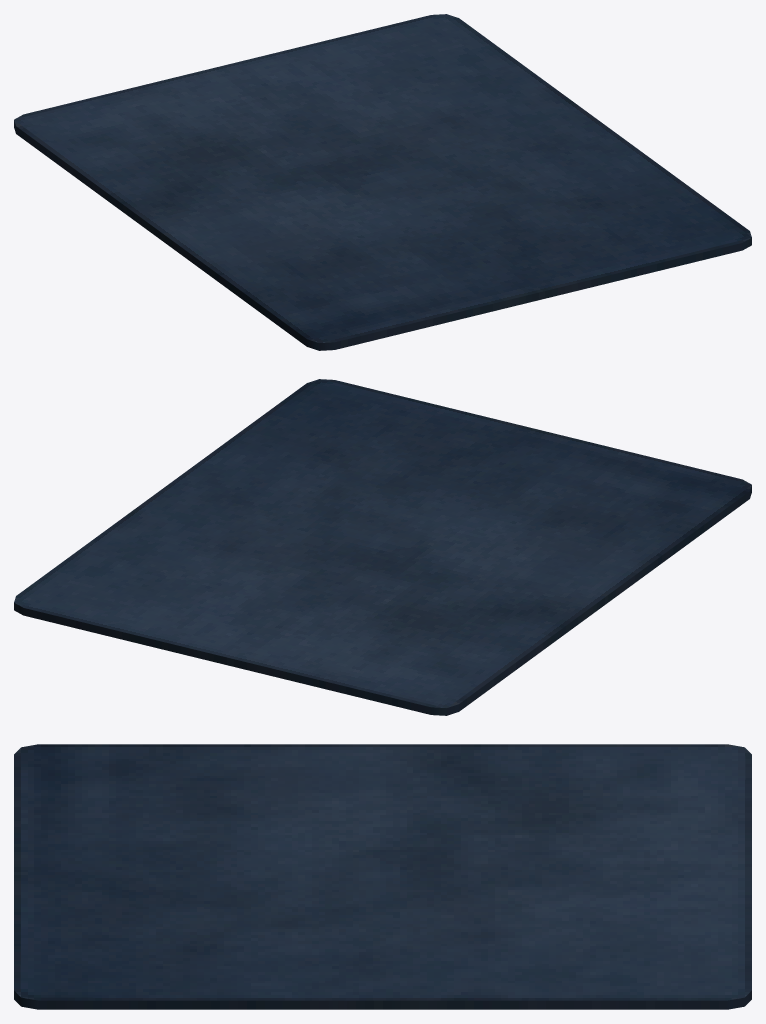
The model's file is MousePadMp1.glb.
3 renders of one model, top to bottom at view 1: azimuth 30°, elevation 25°; view 2: azimuth 150°, elevation 25°; view 3: azimuth 270°, elevation 25°, orthographic. The views are drawn at different scales.
Visible parts, largest first — view 1: mouse_pad_mp_1; view 2: mouse_pad_mp_1; view 3: mouse_pad_mp_1.
Boxes of the visible parts, x1,y1,x2,y2 form: mouse_pad_mp_1: (14,14,751,350); mouse_pad_mp_1: (14,379,751,715); mouse_pad_mp_1: (14,744,751,1009).
Size of the model in its own units: 0.24 by 0.004 by 0.2921.
1 material, 1 textured.
